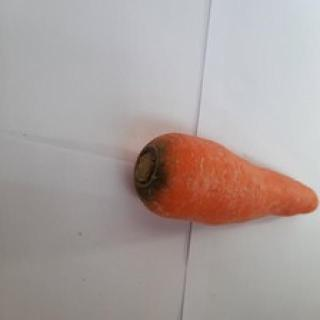carrot: (135, 130, 320, 224)
